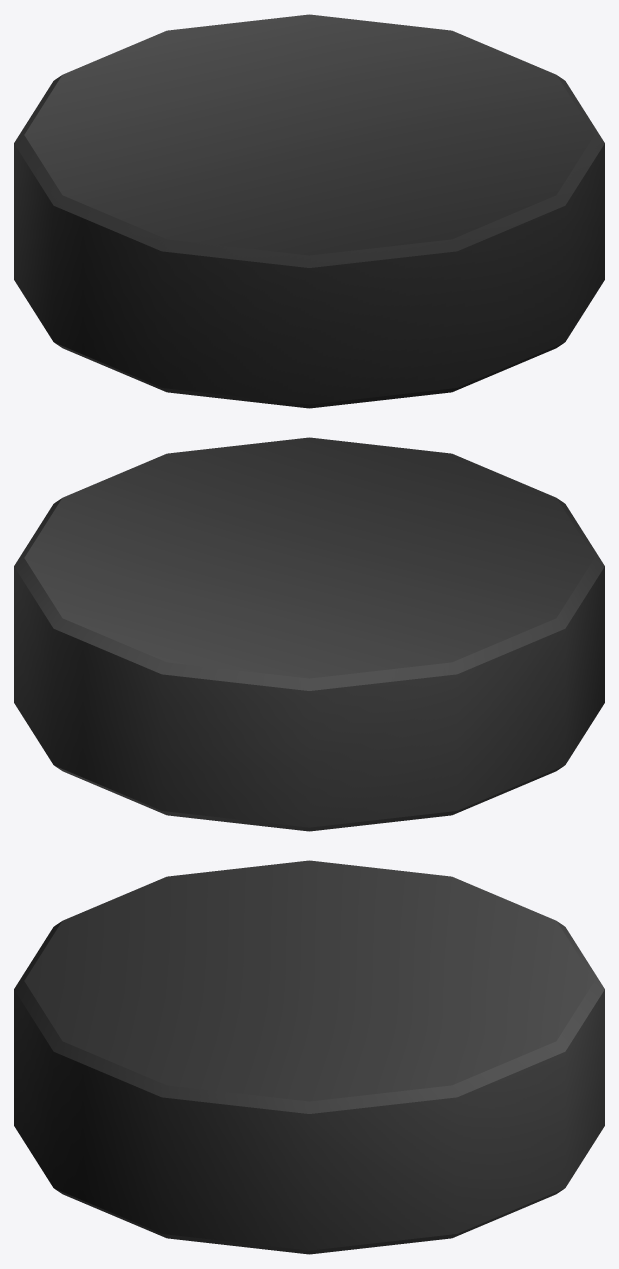
File: Cake Burn_1.fbx
The picture shows the model from 3 angles, top to bottom: view 1: azimuth 30°, elevation 25°; view 2: azimuth 150°, elevation 25°; view 3: azimuth 270°, elevation 25°; orthographic projection.
Visible parts, largest first — view 1: Cake Burn_1; view 2: Cake Burn_1; view 3: Cake Burn_1.
Part boxes in pixels (x1=…): Cake Burn_1: x1=14, y1=14, x2=604, y2=408; Cake Burn_1: x1=14, y1=437, x2=604, y2=831; Cake Burn_1: x1=14, y1=860, x2=604, y2=1254.
Size of the model in its own units: 0.2606 by 0.0744 by 0.2606.
